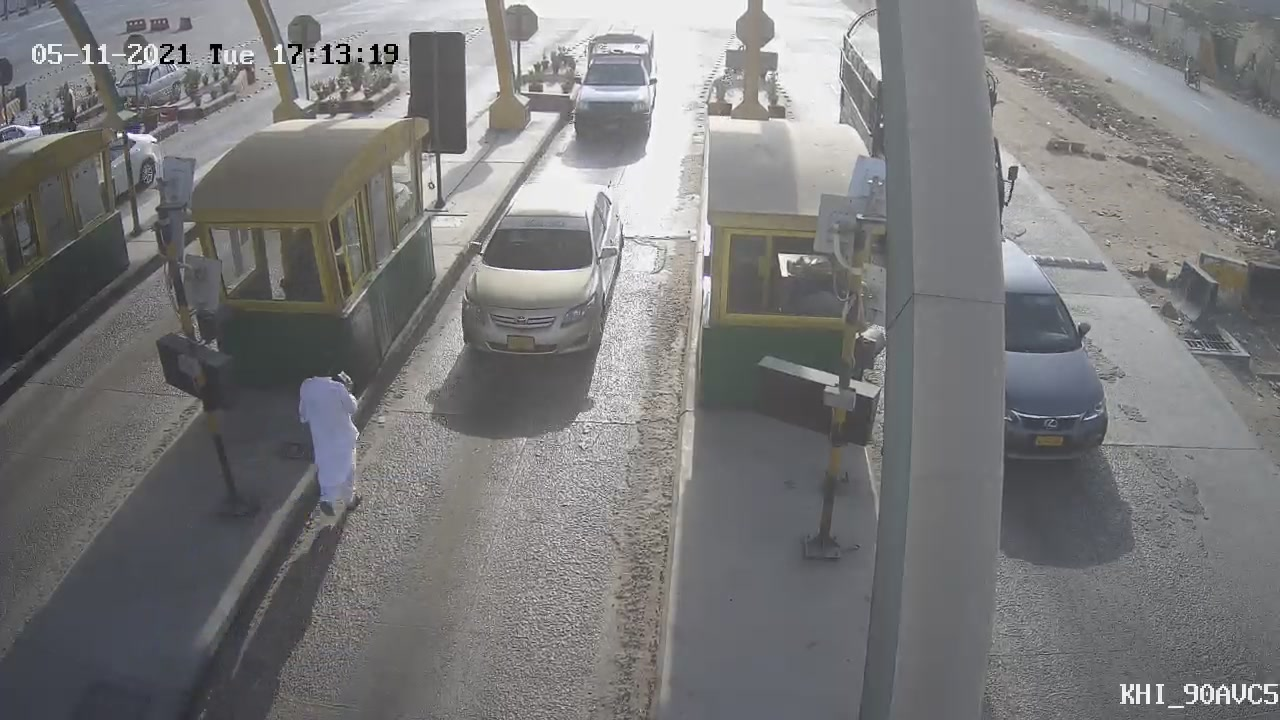F1: (440, 169, 643, 375), (560, 14, 666, 157)
